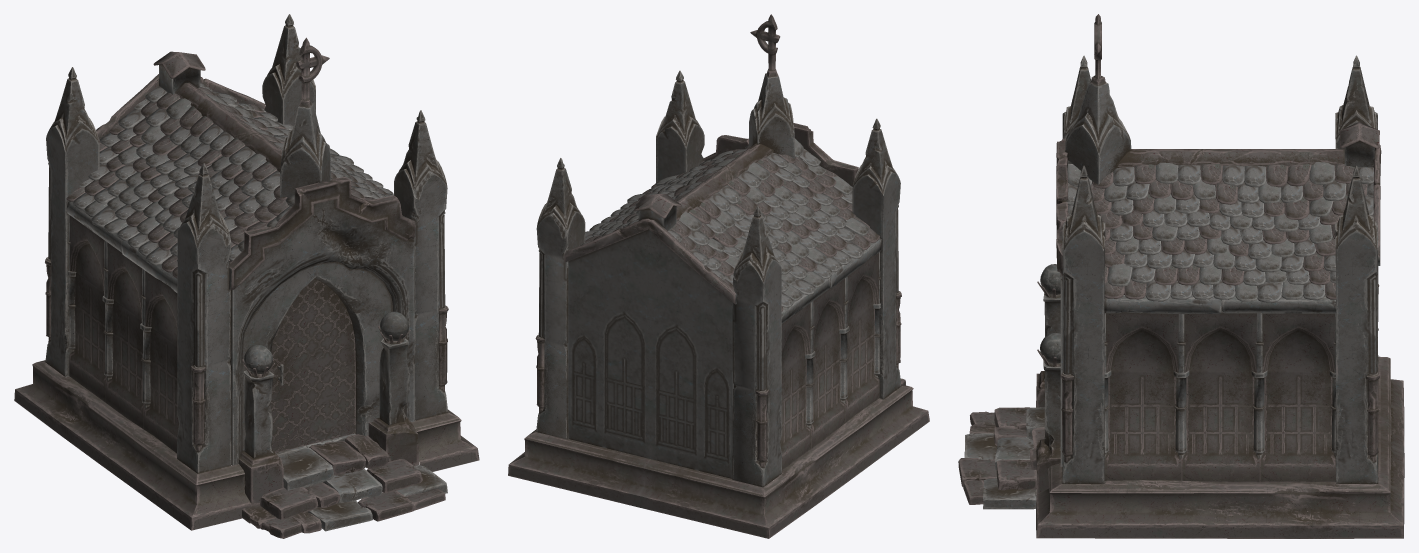
The model's file is crypt.fbx.
3 views of the same model, side by side, from view 1: azimuth 30°, elevation 25°; view 2: azimuth 150°, elevation 25°; view 3: azimuth 270°, elevation 25° (orthographic). The views are drawn at different scales.
Visible parts, largest first — view 1: tower_low.001, roof_tiles_low.001, side_down_low.001, side_low.001, front1_low.001, front_door_low.001, front2_low.001, roof_front_low.001, roof_krest_low.001, front_column_low.001, front_column_low.003, roof_balka_low.001 (+18 smaller); view 2: back_low.001, tower_low.001, side_down_low.001, roof_tiles_low.001, side_low.001, roof_krest_low.001, roof_back_low.001, roof_balka_low.001, tower_column_low.001, roof_front_low.001, side_column_low.001, side_balka_low.001 (+1 smaller); view 3: side_low.001, roof_tiles_low.001, tower_low.001, side_down_low.001, roof_krest_low.001, roof_balka_low.001, side_balka_low.001, side_column_low.001, front_column_low.003, tower_column_low.001, roof_house_low.001, roof_front_low.001 (+11 smaller).
Boxes of the visible parts, <box> form: tower_low.001: <box>45,14,447,473</box>; roof_tiles_low.001: <box>66,82,402,278</box>; side_down_low.001: <box>14,360,479,530</box>; side_low.001: <box>69,215,178,453</box>; front1_low.001: <box>230,199,414,465</box>; front_door_low.001: <box>270,278,355,452</box>; front2_low.001: <box>242,261,392,450</box>; roof_front_low.001: <box>229,177,415,290</box>; roof_krest_low.001: <box>280,37,330,197</box>; front_column_low.001: <box>238,370,283,505</box>; front_column_low.003: <box>368,338,418,465</box>; roof_balka_low.001: <box>176,82,282,171</box>; back_low.001: <box>567,229,733,478</box>; tower_low.001: <box>536,70,901,487</box>; side_down_low.001: <box>508,384,929,538</box>; roof_tiles_low.001: <box>580,138,879,311</box>; side_low.001: <box>780,253,879,470</box>; roof_krest_low.001: <box>749,14,794,158</box>; roof_back_low.001: <box>563,218,736,304</box>; roof_balka_low.001: <box>676,143,773,219</box>; tower_column_low.001: <box>535,291,901,467</box>; roof_front_low.001: <box>703,122,858,186</box>; side_column_low.001: <box>805,303,880,428</box>; side_balka_low.001: <box>781,238,881,323</box>; side_low.001: <box>1104,200,1335,482</box>; roof_tiles_low.001: <box>1066,160,1373,302</box>; tower_low.001: <box>1062,55,1378,483</box>; side_down_low.001: <box>1036,356,1404,538</box>; roof_krest_low.001: <box>1065,14,1131,184</box>; roof_balka_low.001: <box>1117,149,1344,168</box>; side_balka_low.001: <box>1104,184,1336,314</box>; side_column_low.001: <box>1104,286,1335,458</box>; front_column_low.003: <box>1036,360,1062,494</box>; tower_column_low.001: <box>1060,266,1379,462</box>; roof_house_low.001: <box>1339,122,1379,167</box>; roof_front_low.001: <box>1056,138,1067,276</box>.
Bounding box in the file's own units: 422 × 608 × 543.
1 material, 1 textured.
